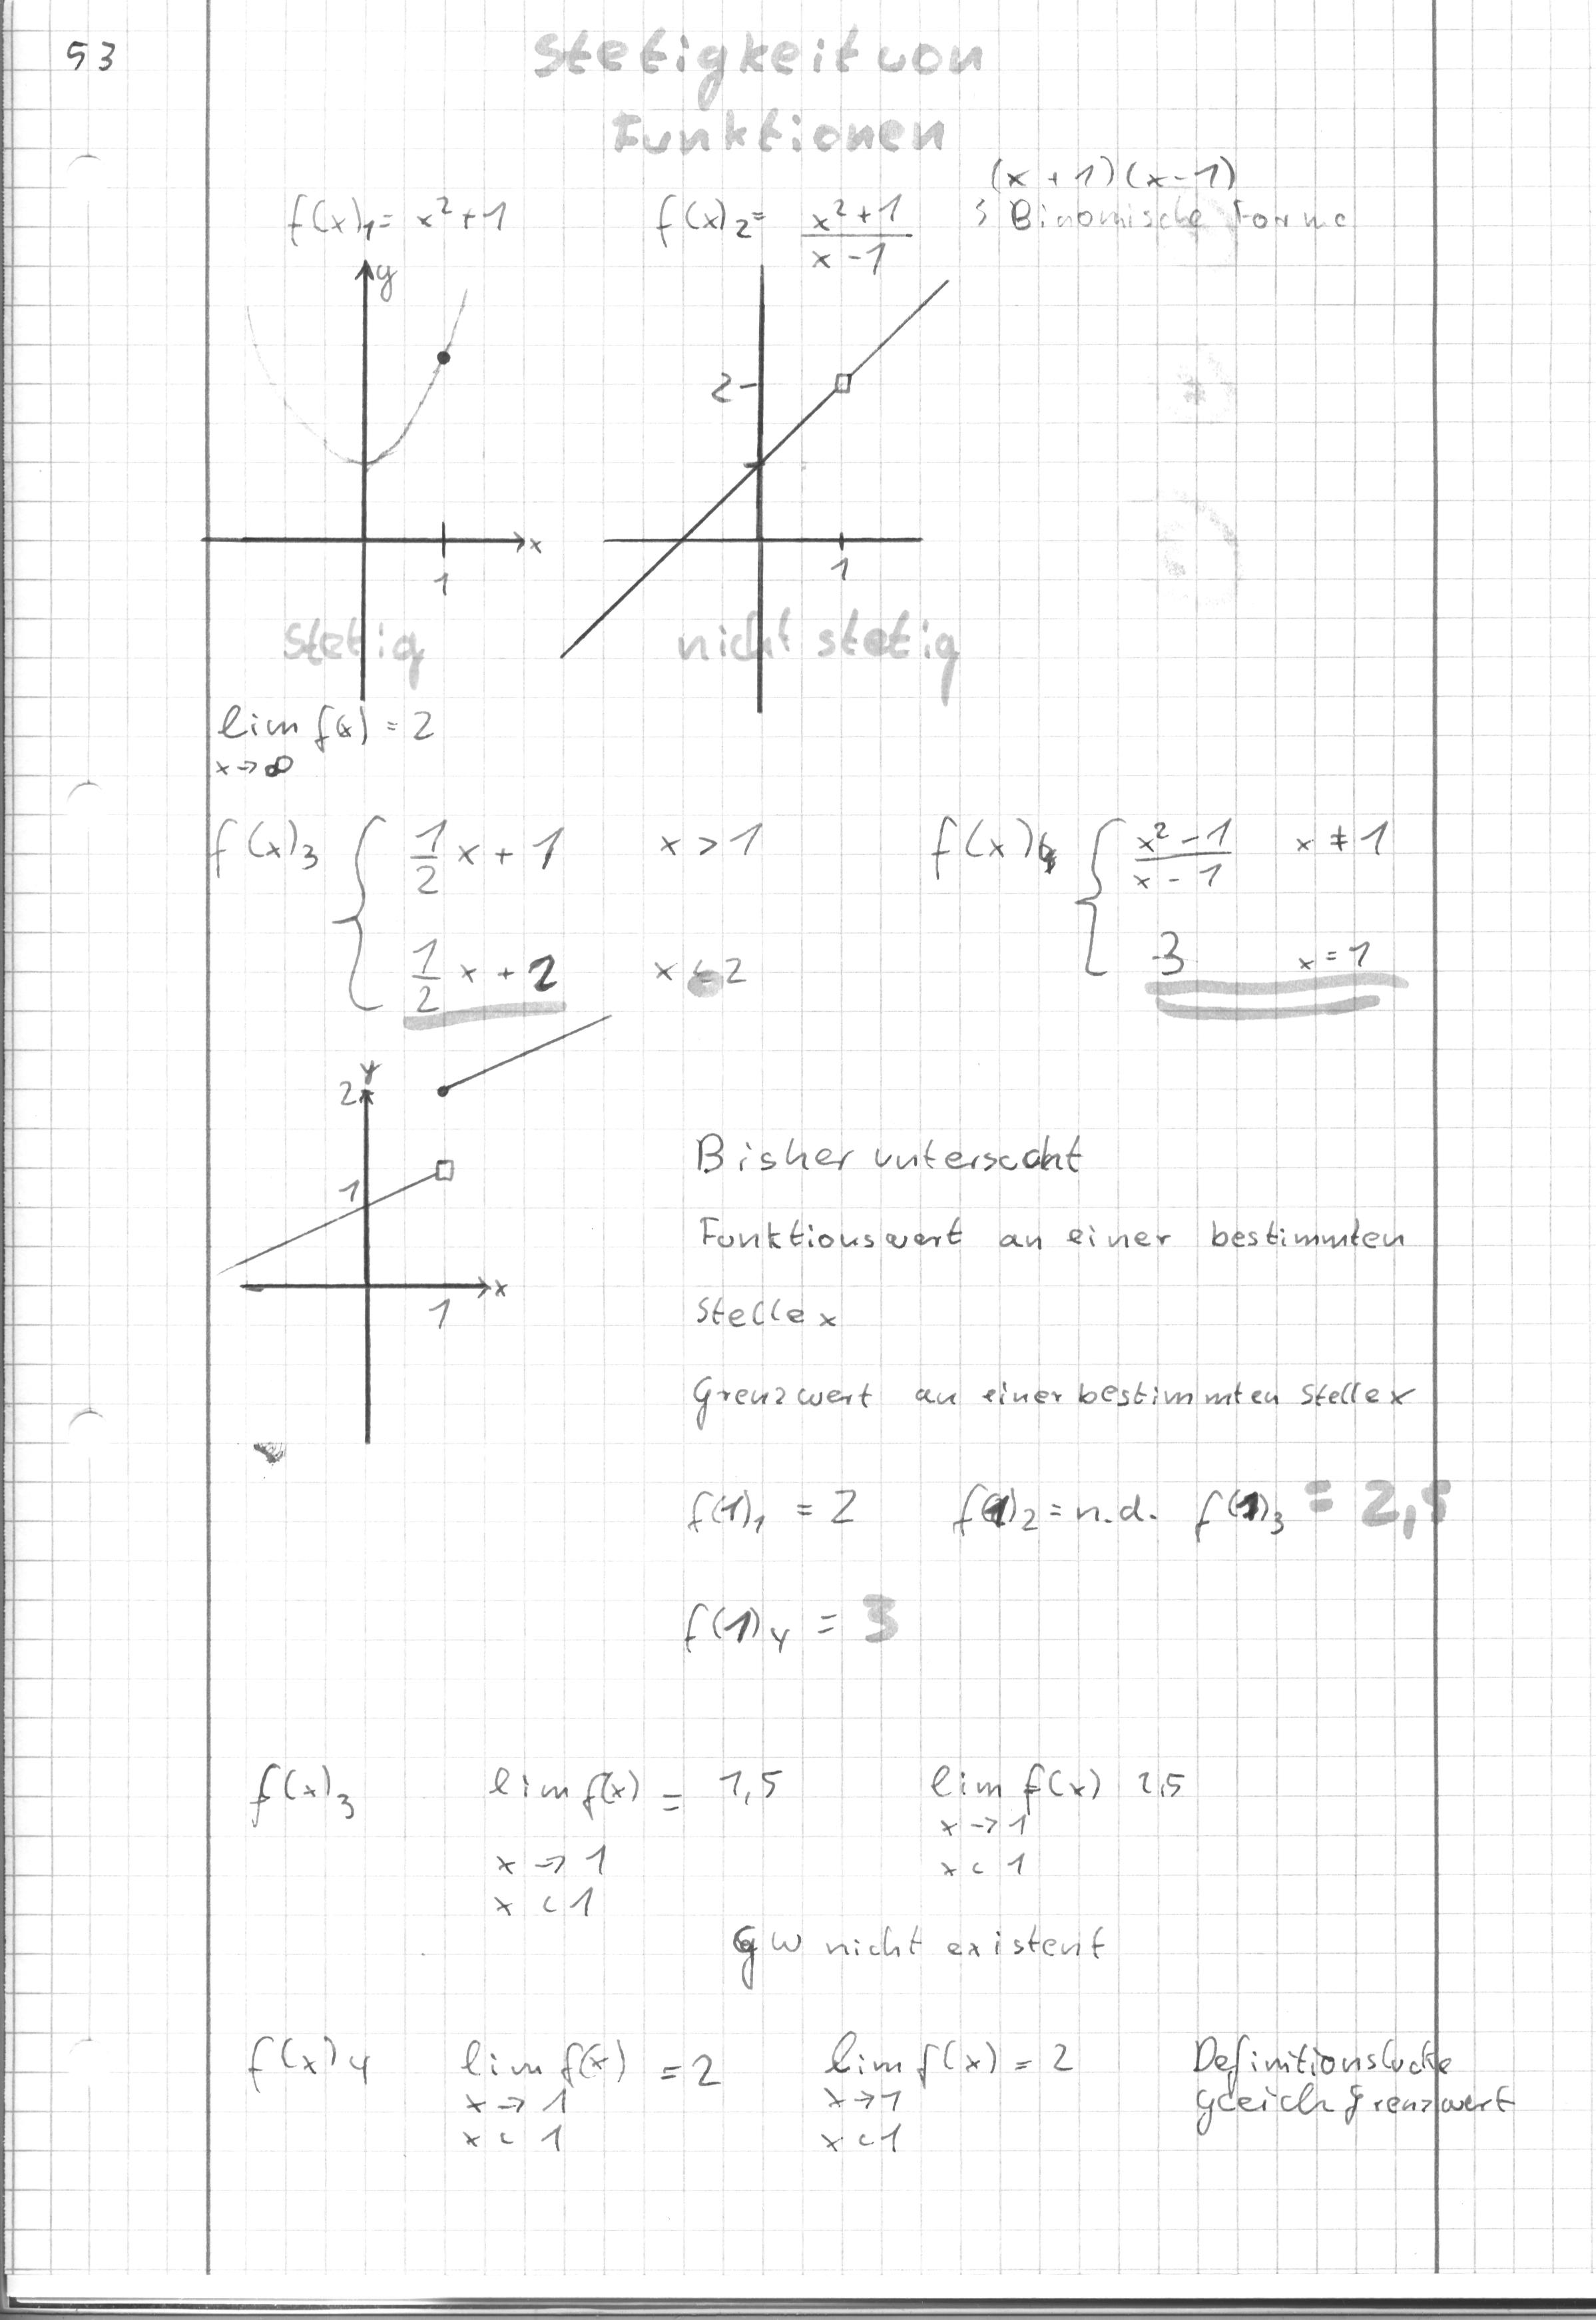word: (194, 802, 1400, 1036), (683, 1283, 1420, 1428), (669, 1127, 1416, 1259), (449, 2025, 1089, 2173), (456, 1741, 811, 1926), (900, 1727, 1213, 1897), (667, 1462, 906, 1671), (716, 1901, 1138, 2013), (1181, 2013, 1526, 2150), (931, 1446, 1304, 1556), (272, 178, 511, 309), (204, 690, 473, 804), (654, 182, 920, 285), (216, 1996, 399, 2136), (218, 1735, 392, 1862)
